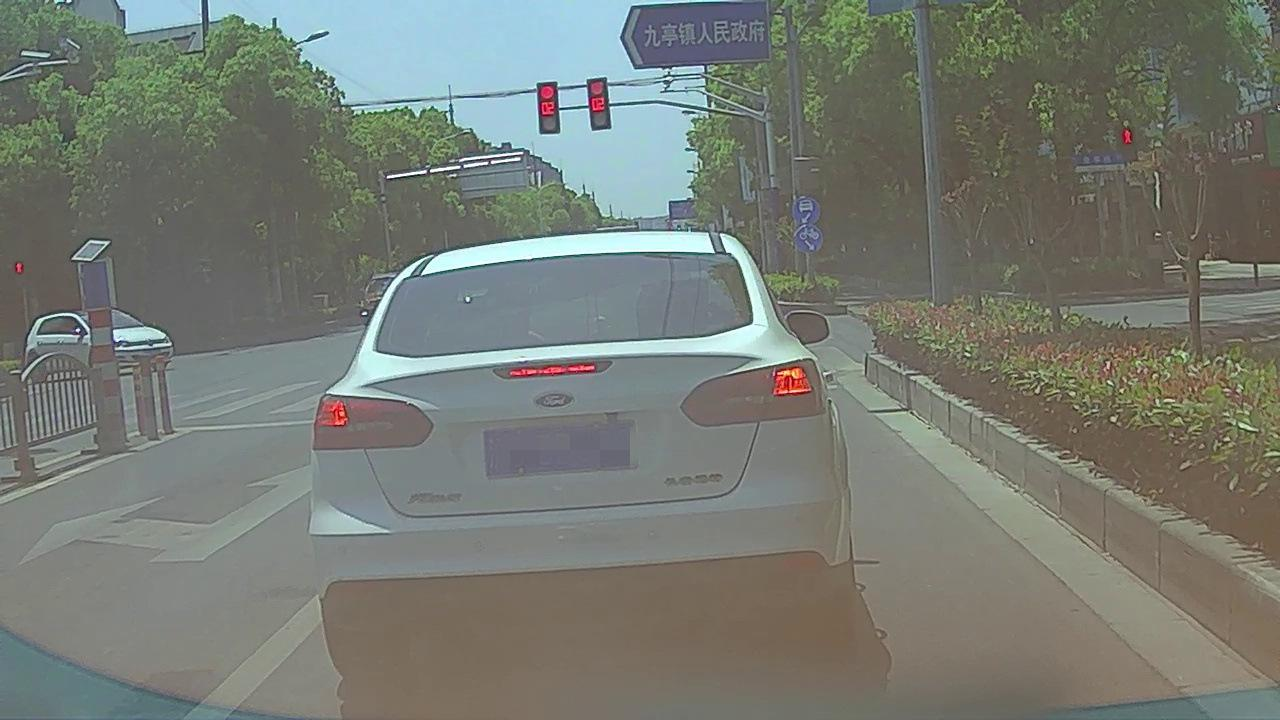traffic_light: (587, 80, 611, 130), (538, 82, 560, 133)
